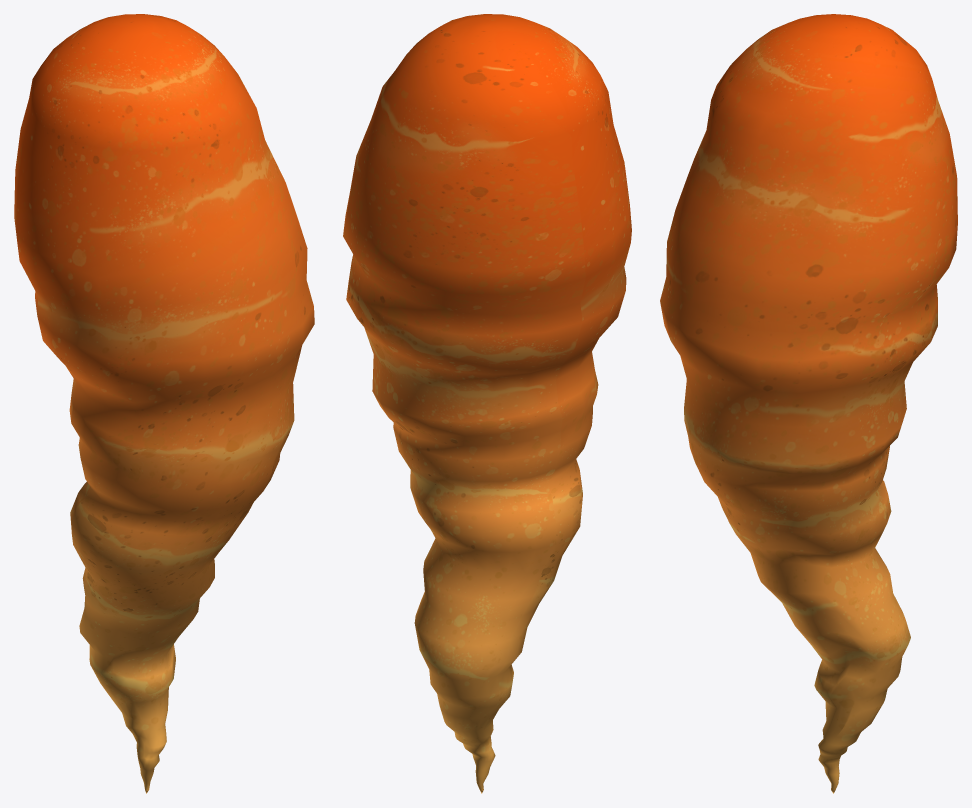
The model's file is carrot.fbx.
3 views of the same model, side by side, from view 1: azimuth 30°, elevation 25°; view 2: azimuth 150°, elevation 25°; view 3: azimuth 270°, elevation 25° (orthographic).
Visible parts, largest first — view 1: pSphere4; view 2: pSphere4; view 3: pSphere4.
Boxes of the visible parts, x1,y1,x2,y2 form: pSphere4: (14, 14, 314, 793); pSphere4: (343, 14, 631, 793); pSphere4: (660, 14, 957, 793).
Size of the model in its own units: 30.39 by 87.67 by 31.02.
